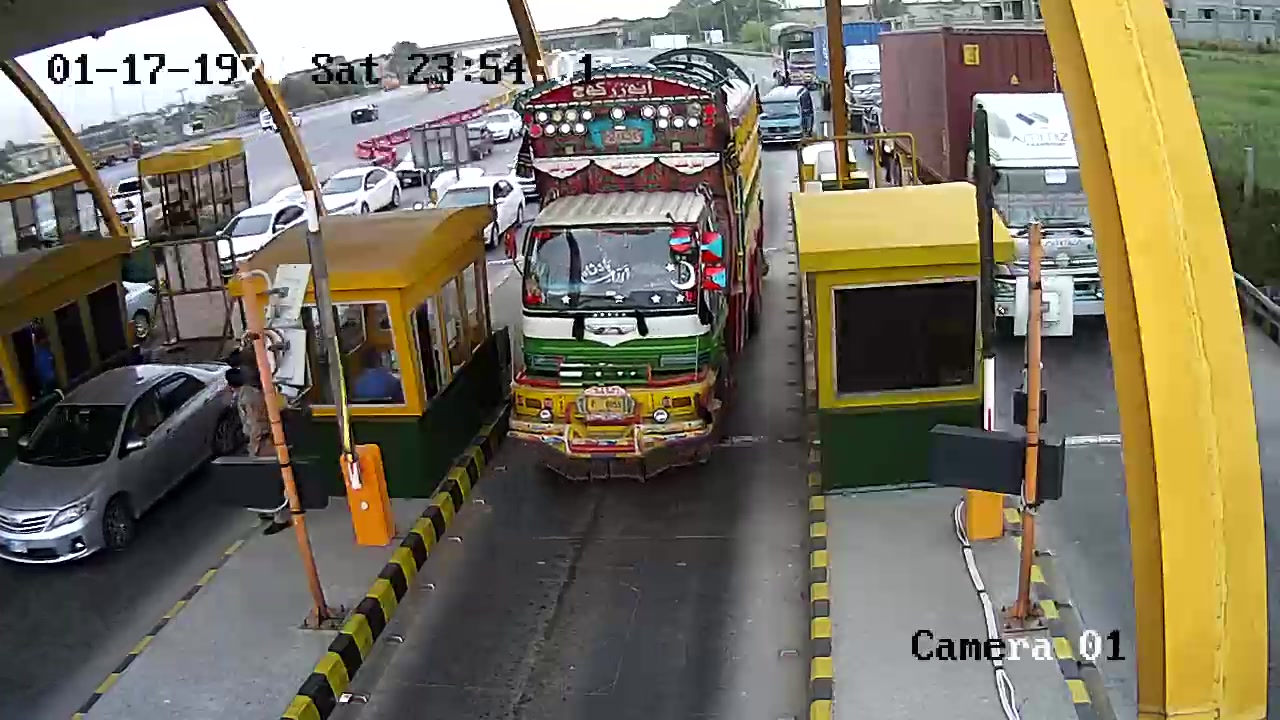F5: (496, 51, 767, 488)
